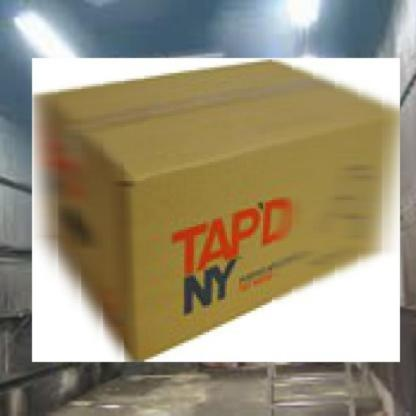box: (26, 53, 406, 368)
